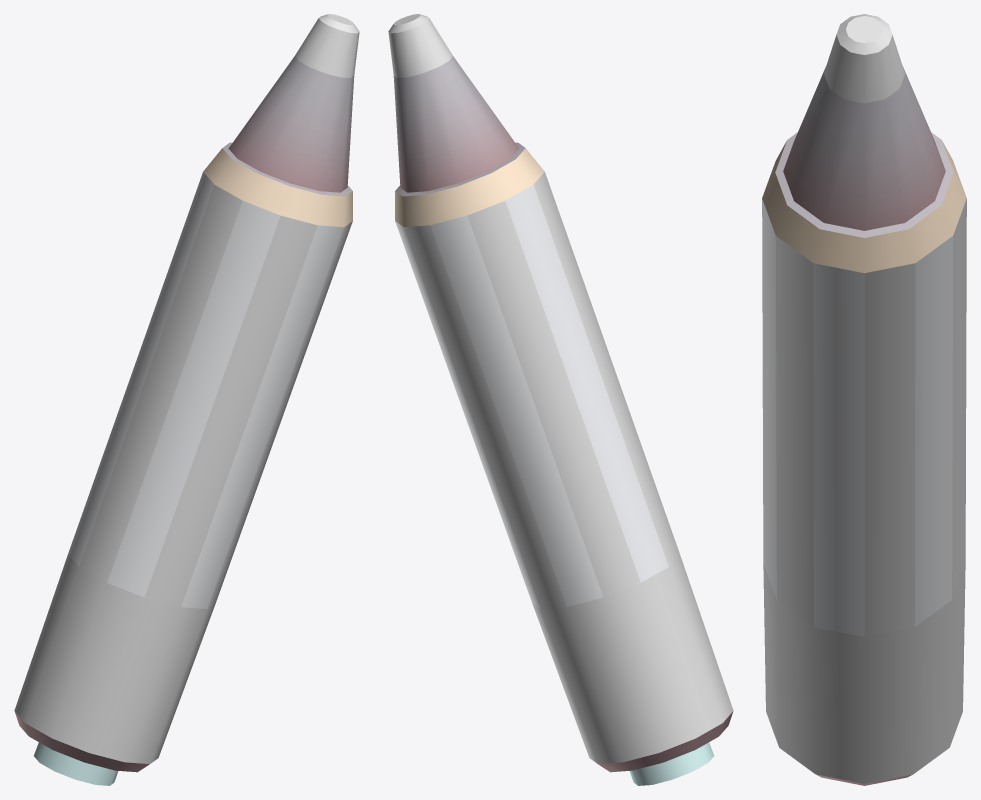
The model's file is Pencil-Collectible.fbx.
3 views of the same model, side by side, from view 1: azimuth 30°, elevation 25°; view 2: azimuth 150°, elevation 25°; view 3: azimuth 270°, elevation 25° (orthographic). The views are drawn at different scales.
Visible parts, largest first — view 1: Pencil; view 2: Pencil; view 3: Pencil.
Part boxes in pixels (bbox=[...]): Pencil: bbox=[14, 14, 359, 785]; Pencil: bbox=[388, 14, 733, 785]; Pencil: bbox=[762, 14, 966, 785].
Bounding box in the file's own units: 0.608 × 1.24 × 0.2523.
